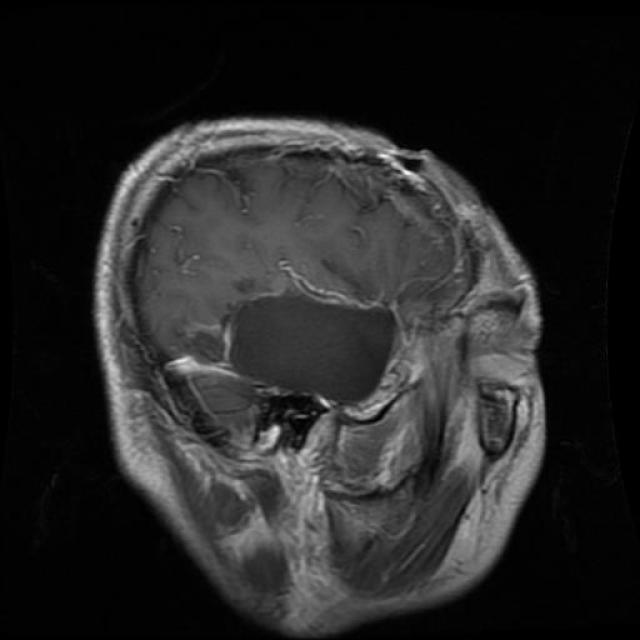glioma: (222, 290, 398, 400)
